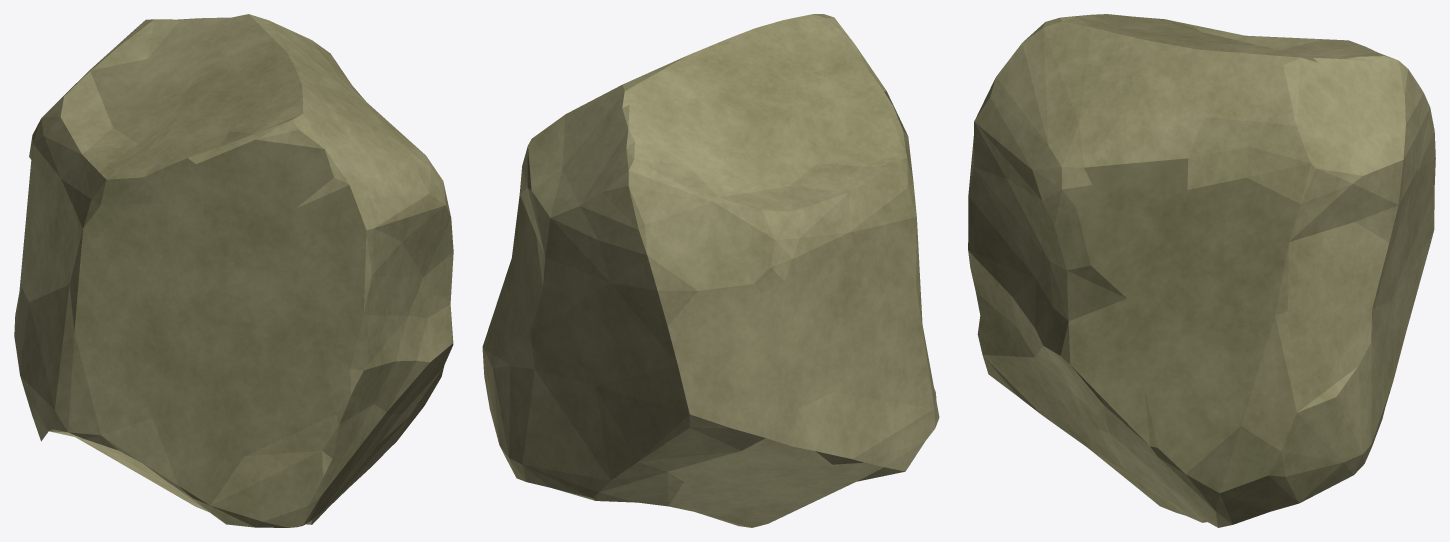
The model's file is molasse.glb.
3 renders of one model, left to right at view 1: azimuth 30°, elevation 25°; view 2: azimuth 150°, elevation 25°; view 3: azimuth 270°, elevation 25°, orthographic. The views are drawn at different scales.
Visible parts, largest first — view 1: Cube.001; view 2: Cube.001; view 3: Cube.001.
Boxes of the visible parts, left/top/right/bottom form: Cube.001: left=14, top=14, right=453, bottom=527; Cube.001: left=482, top=14, right=939, bottom=527; Cube.001: left=968, top=14, right=1435, bottom=527.
Bounding box in the file's own units: 1.79 × 1.97 × 1.83.
Materials: 1 (1 with a texture image).
